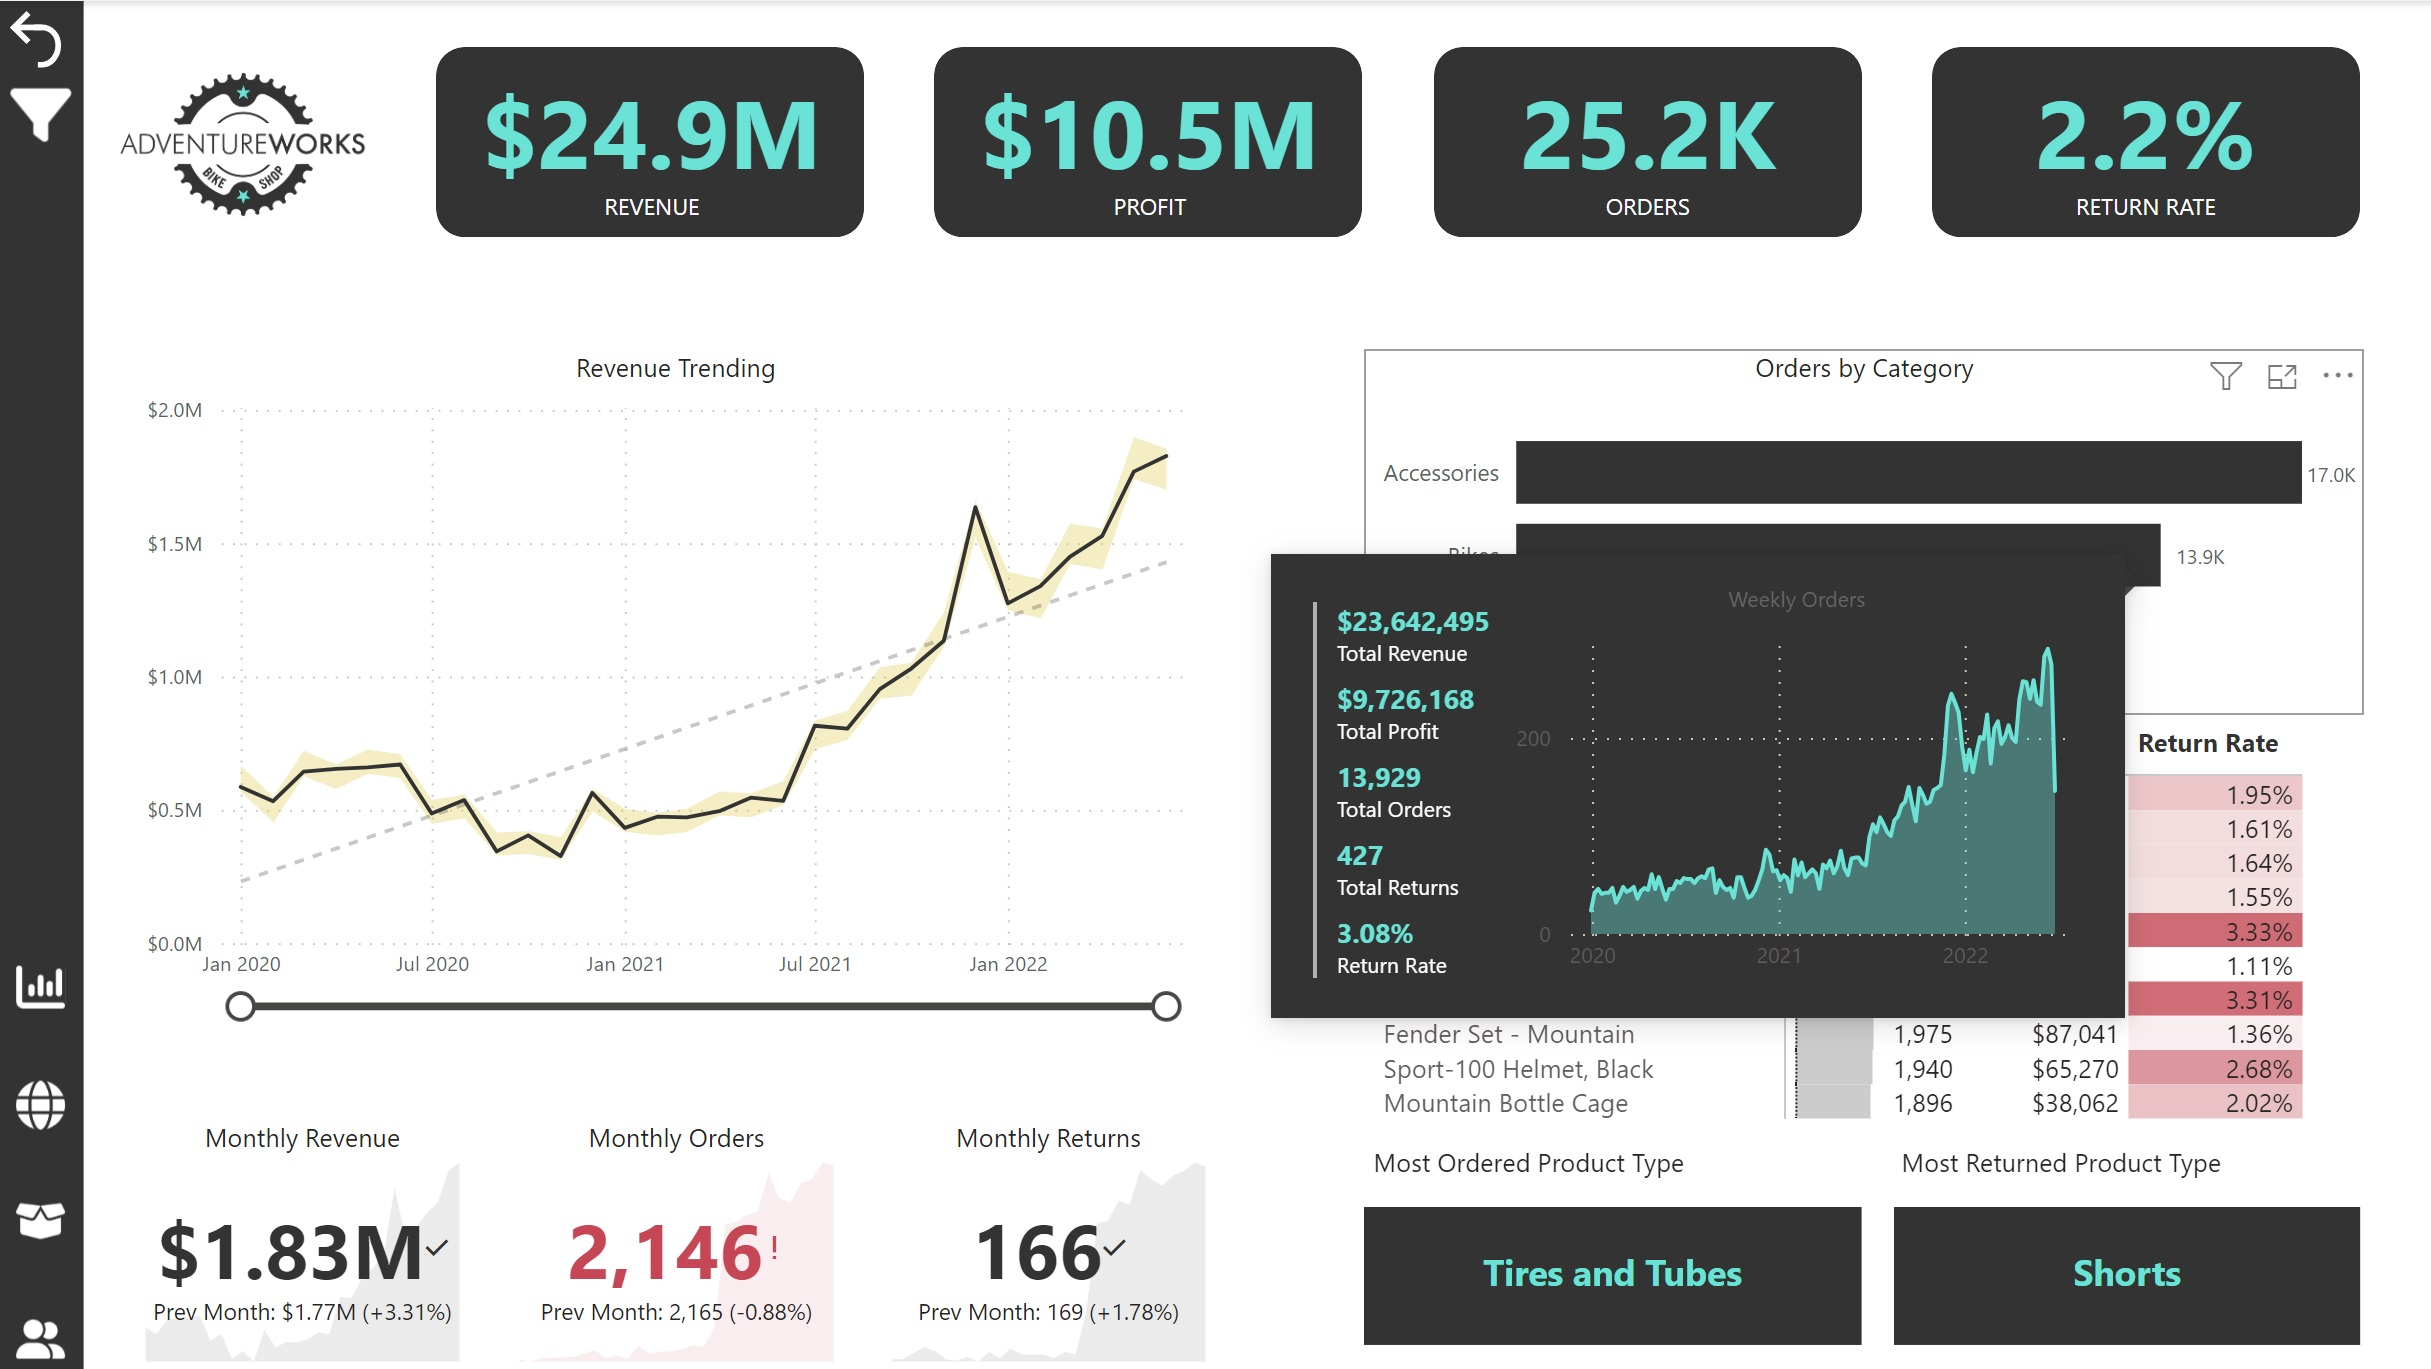

The page's visual inventory and layout, read from the dashboard file:
{"tool":"powerbi","page":{"name":"Executive Dashboard","canvas":[1280,720],"ordinal":0},"visuals":[{"type":"card","fields":{"Values":["Measure Table.Total Profit"]},"box":[476.2,0,256.2,150],"z":0,"group":"g2"},{"type":"image","title":"AW Logo","box":[45,19,167.5,112.5],"z":0},{"type":"group","id":"g1","title":"KPI Backgrounds","box":[230,23.7,1011.2,100],"z":0,"group":"g3"},{"type":"shape","box":[230,23.7,225,100],"z":0,"group":"g1"},{"type":"shape","title":"Left Nav Background","box":[0,0,45,720],"z":1000},{"type":"group","id":"g2","title":"KPI Values","box":[215,0,1041.2,150],"z":1000,"group":"g3"},{"type":"card","fields":{"Values":["Measure Table.Total Orders"]},"box":[738.8,0,256.2,150],"z":1000,"group":"g2"},{"type":"shape","box":[492.1,23.7,225,100],"z":1000,"group":"g1"},{"type":"group","id":"g3","title":"KPIs","box":[215,0,1041.2,150],"z":2000},{"type":"card","fields":{"Values":["Measure Table.Return Rate"]},"box":[1000,0,256.2,150],"z":2000,"group":"g2"},{"type":"shape","box":[754.2,23.7,225,100],"z":2000,"group":"g1"},{"type":"card","fields":{"Values":["Measure Table.Total Revenue"]},"box":[215,0,256.2,150],"z":3000,"group":"g2"},{"type":"shape","box":[1016.2,23.7,225,100],"z":3000,"group":"g1"},{"type":"lineChart","title":"Revenue Trending","fields":{"Y":["Measure Table.Total Revenue"],"Category":["Calendar Lookup.Start of Month"]},"box":[72.5,182.5,567.5,356.2],"z":3000},{"type":"kpi","title":"Monthly Revenue","fields":{"Indicator":["Measure Table.Total Revenue"],"TrendLine":["Calendar Lookup.Start of Month"],"Goal":["Measure Table.Previous Month Revenue"]},"box":[72.5,587.5,175,132.5],"z":4000},{"type":"kpi","title":"Monthly Orders","fields":{"TrendLine":["Calendar Lookup.Start of Month"],"Indicator":["Measure Table.Total Orders"],"Goal":["Measure Table.Previous Month Orders"]},"box":[268.8,587.5,175,132.5],"z":5000},{"type":"kpi","title":"Monthly Returns","fields":{"TrendLine":["Calendar Lookup.Start of Month"],"Indicator":["Measure Table.Total Returns"],"Goal":["Measure Table.Previous Month Return"]},"box":[465,587.5,175,132.5],"z":6000},{"type":"clusteredBarChart","title":"Orders by Category","fields":{"Category":["Product Categories Lookup.CategoryName"],"Y":["Measure Table.Total Orders"]},"box":[717.5,182.5,526.2,192.5],"z":7000},{"type":"pivotTable","fields":{"Rows":["Product Lookup.ProductName"],"Values":["Measure Table.Total Orders","Measure Table.Total Revenue","Measure Table.Return Rate"]},"box":[717.5,375,526.2,222.5],"z":8000},{"type":"card","fields":{"Values":["Min(Product Subcategories Lookup.SubcategoryName)"]},"box":[717.5,633.8,261.2,72.5],"z":9000},{"type":"textbox","box":[717.5,595.6,197.5,37.5],"z":10000},{"type":"card","fields":{"Values":["Min(Product Subcategories Lookup.SubcategoryName)"]},"box":[996.2,633.8,245,72.5],"z":11000},{"type":"textbox","box":[995.6,595.6,201.2,37.5],"z":12000},{"type":"actionButton","box":[0,0,45,40],"z":13000},{"type":"actionButton","box":[0,501.2,45,33.8],"z":14000},{"type":"actionButton","box":[0,562.9,45,33.8],"z":15000},{"type":"actionButton","box":[0,624.6,45,33.8],"z":16000},{"type":"actionButton","box":[0,686.2,45,33.8],"z":17000},{"type":"actionButton","box":[0,40,45,40],"z":18000}]}

Visuals, with their boxes on the page's 1280x720 design canvas (x1, y1, x2, y2). These are canvas units, not pixel positions in the 2431x1369 screenshot, which may show the page scaled, cropped or inside an application window:
card - Measure Table.Total Profit: 476,0,732,150
"AW Logo" image: 45,19,212,132
"KPI Backgrounds" group: 230,24,1241,124
shape: 230,24,455,124
"Left Nav Background" shape: 0,0,45,720
"KPI Values" group: 215,0,1256,150
card - Measure Table.Total Orders: 739,0,995,150
shape: 492,24,717,124
"KPIs" group: 215,0,1256,150
card - Measure Table.Return Rate: 1000,0,1256,150
shape: 754,24,979,124
card - Measure Table.Total Revenue: 215,0,471,150
shape: 1016,24,1241,124
"Revenue Trending" lineChart: 72,182,640,539
"Monthly Revenue" kpi: 72,588,248,720
"Monthly Orders" kpi: 269,588,444,720
"Monthly Returns" kpi: 465,588,640,720
"Orders by Category" clusteredBarChart: 718,182,1244,375
pivotTable - Product Lookup.ProductName x Measure Table.Total Orders: 718,375,1244,598
card - Min(Product Subcategories Lookup.SubcategoryName): 718,634,979,706
textbox: 718,596,915,633
card - Min(Product Subcategories Lookup.SubcategoryName): 996,634,1241,706
textbox: 996,596,1197,633
actionButton: 0,0,45,40
actionButton: 0,501,45,535
actionButton: 0,563,45,597
actionButton: 0,625,45,658
actionButton: 0,686,45,720
actionButton: 0,40,45,80
